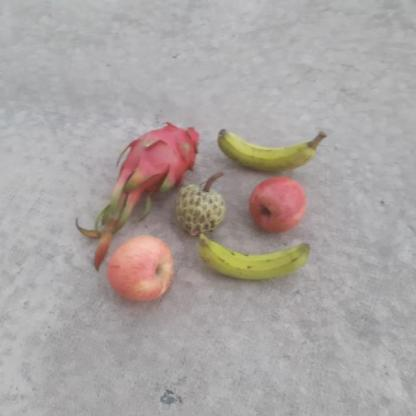annona: (175, 180, 227, 235)
apple: (109, 231, 176, 302), (245, 176, 311, 232)
banana: (192, 242, 322, 279), (216, 126, 327, 168)
pitaya: (128, 119, 199, 184)
